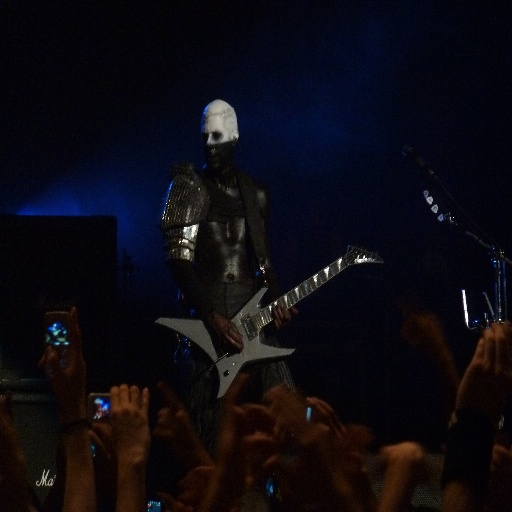hand: (444, 325, 512, 485), (38, 303, 87, 425), (93, 382, 153, 463), (151, 379, 202, 461), (243, 400, 292, 472), (380, 438, 426, 510), (304, 395, 351, 460), (265, 384, 312, 448), (221, 372, 247, 450), (210, 312, 244, 354), (271, 302, 296, 334)
